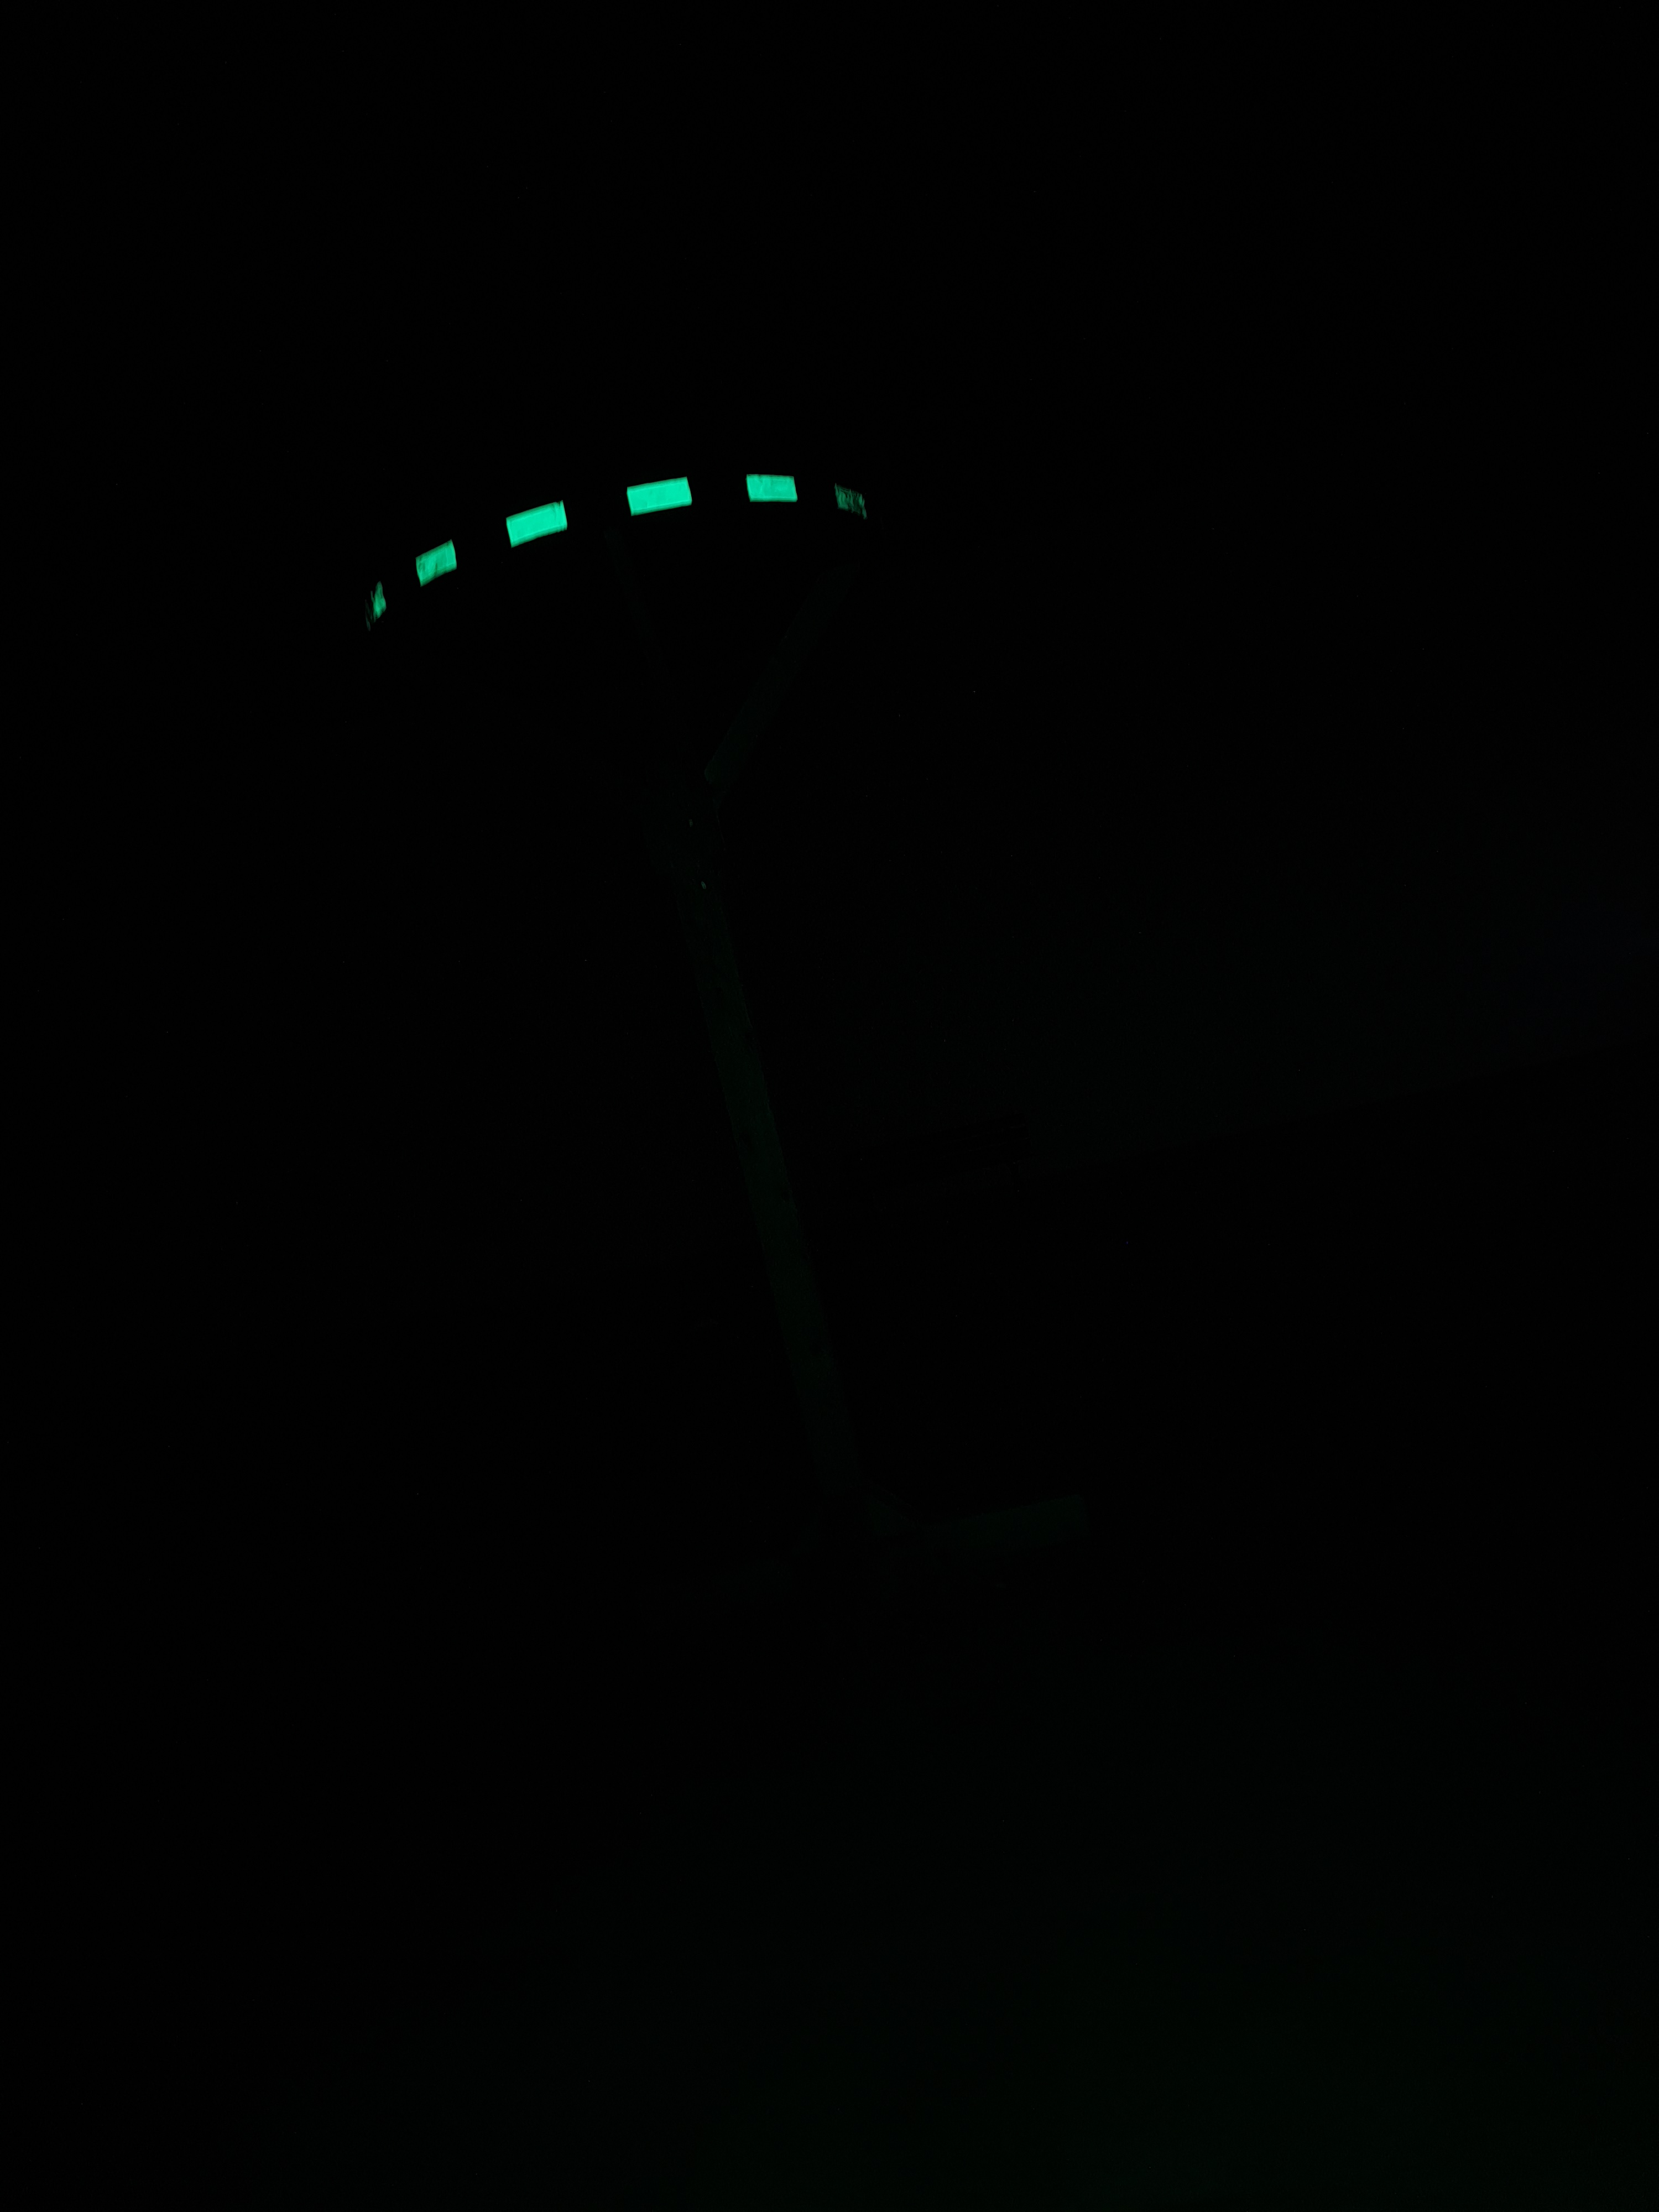hoop: (364, 458, 877, 634)
